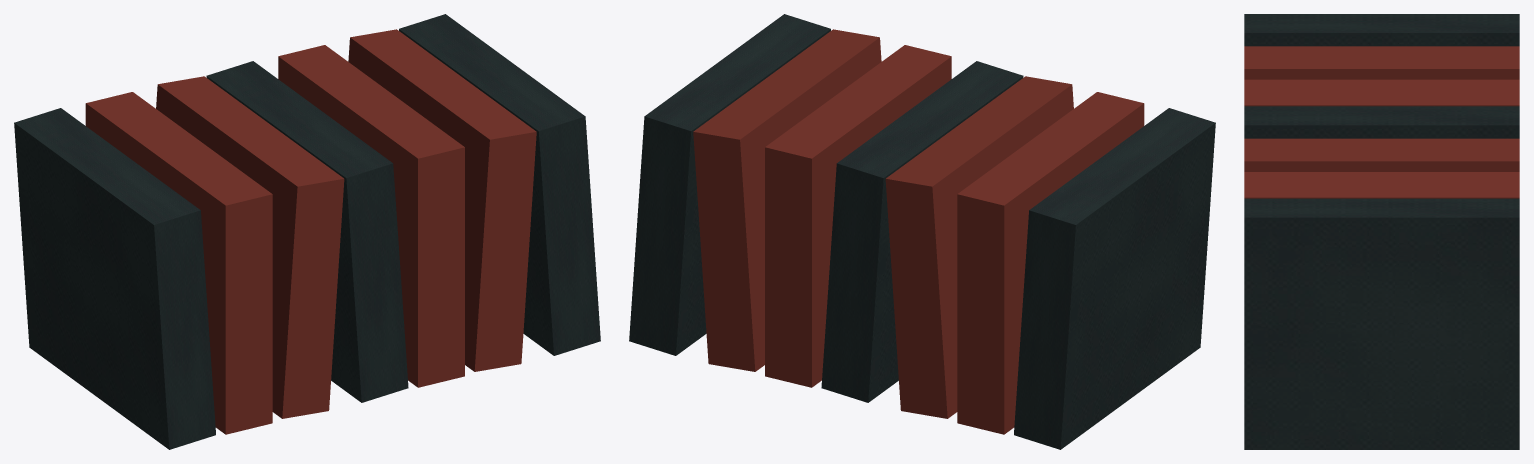
The model's file is books.glb.
3 renders of one model, left to right at view 1: azimuth 30°, elevation 25°; view 2: azimuth 150°, elevation 25°; view 3: azimuth 270°, elevation 25°, orthographic.
Visible parts, largest first — view 1: School book, School book.001, School book.002, School book.004, School book.005, School book.003, School book.006; view 2: School book, School book.001, School book.002, School book.004, School book.005, School book.003, School book.006; view 3: School book.006, School book.001, School book.004, School book, School book.003, School book.002, School book.005.
Part boxes in pixels (x1,y1,x2,y2): School book: (14,108,215,449); School book.001: (85,92,272,434); School book.002: (156,76,344,418); School book.004: (278,45,464,387); School book.005: (348,29,536,371); School book.003: (206,61,408,402); School book.006: (399,14,600,355); School book: (1014,108,1215,449); School book.001: (957,92,1144,434); School book.002: (885,76,1073,418); School book.004: (765,45,951,387); School book.005: (693,29,881,371); School book.003: (821,61,1023,402); School book.006: (629,14,830,355); School book.006: (1244,198,1519,449); School book.001: (1244,46,1519,79); School book.004: (1244,138,1519,171); School book: (1244,14,1519,46); School book.003: (1244,106,1519,138); School book.002: (1244,79,1519,106); School book.005: (1244,172,1519,198).
Bounding box in the file's own units: 0.5714 × 0.2835 × 0.31.
2 materials, 1 textured.
